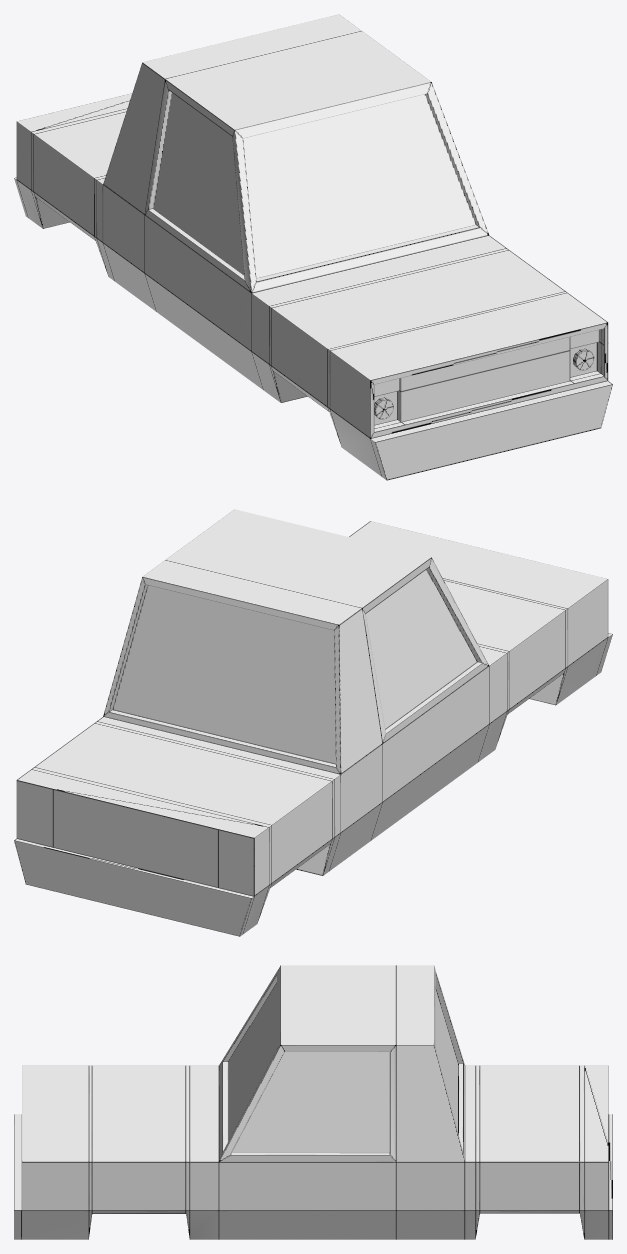
File: LP_car_6.obj
The picture shows the model from 3 angles, top to bottom: view 1: azimuth 30°, elevation 25°; view 2: azimuth 150°, elevation 25°; view 3: azimuth 270°, elevation 25°; orthographic projection. The views are drawn at different scales.
Parts seen in each view (by area): view 1: Cylinder002; view 2: Cylinder002; view 3: Cylinder002.
Part boxes in pixels (x1,y1,x2,y2): Cylinder002: (14,14,612,480); Cylinder002: (14,509,612,936); Cylinder002: (14,965,612,1239).
Bounding box in the file's own units: 21.03 × 19.5 × 55.29.
